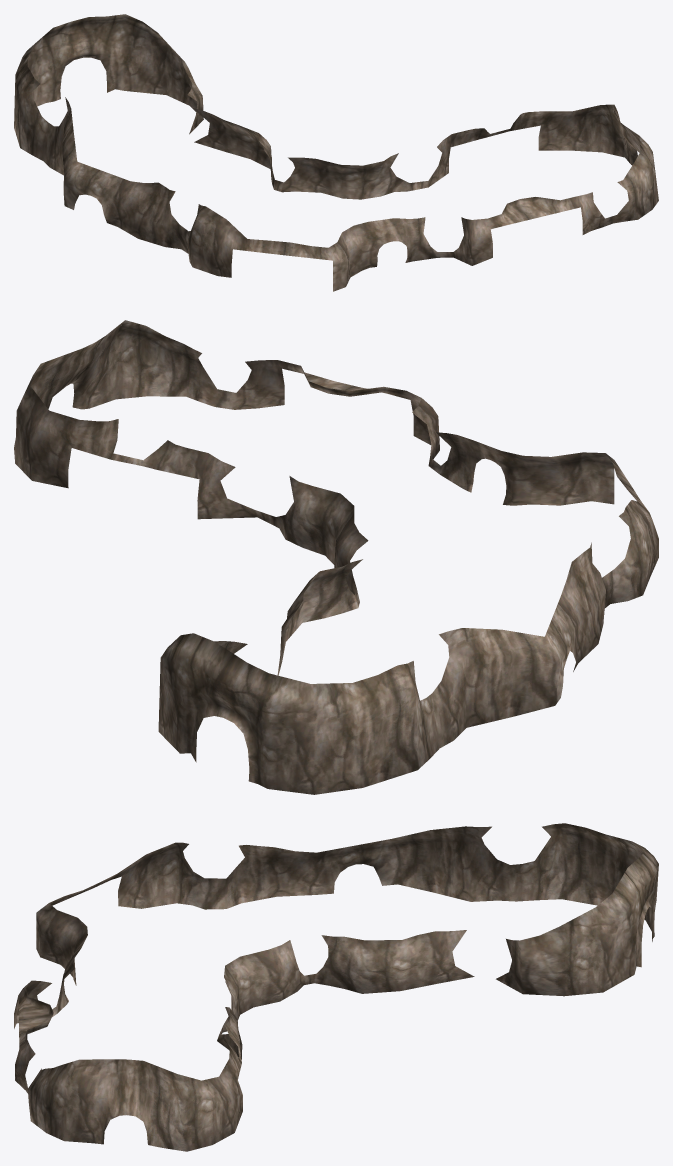
File: EKH_JAIL_PS_JA_MAIN_TOP_WALL646473.fbx
3 views of the same model, one above another, from view 1: azimuth 30°, elevation 25°; view 2: azimuth 150°, elevation 25°; view 3: azimuth 270°, elevation 25° (orthographic). The views are drawn at different scales.
Visible parts, largest first — view 1: EKH_JAIL_PS_JA_MAIN_TOP_WALL646473; view 2: EKH_JAIL_PS_JA_MAIN_TOP_WALL646473; view 3: EKH_JAIL_PS_JA_MAIN_TOP_WALL646473.
Part boxes in pixels (x1,y1,x2,y2): EKH_JAIL_PS_JA_MAIN_TOP_WALL646473: (14,14,658,291); EKH_JAIL_PS_JA_MAIN_TOP_WALL646473: (14,320,658,794); EKH_JAIL_PS_JA_MAIN_TOP_WALL646473: (14,823,658,1151).
Size of the model in its own units: 270976 by 47044 by 275510.
1 material, 1 textured.
